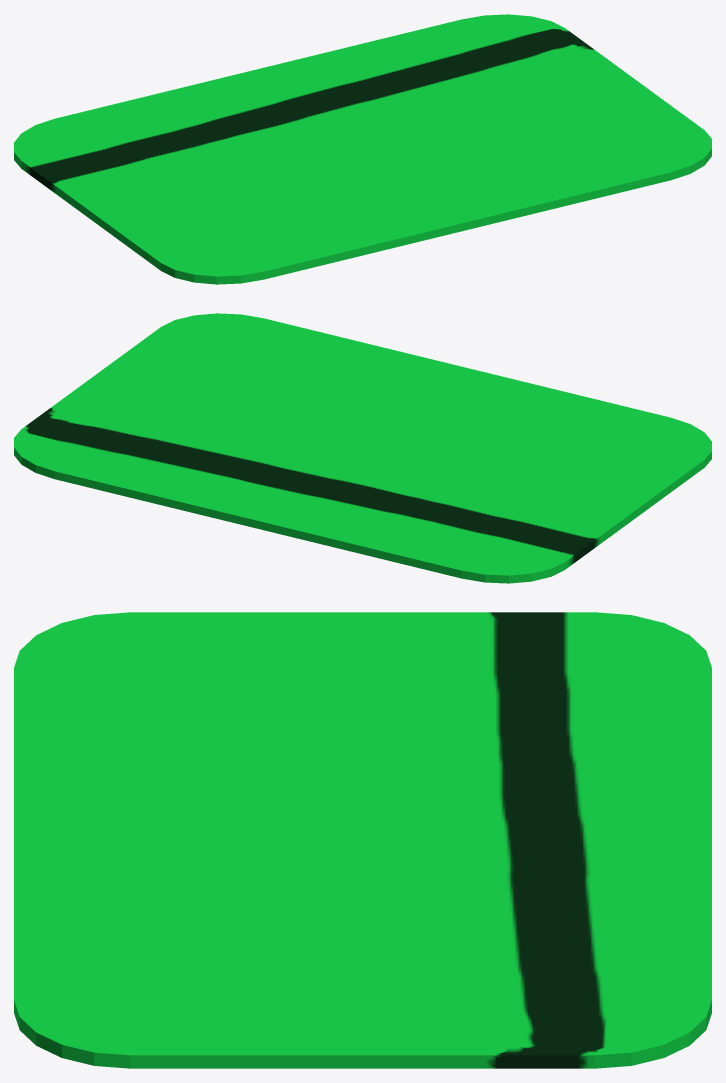
The model's file is ENV_keyCard_v001.fbx.
The picture shows the model from 3 angles, top to bottom: view 1: azimuth 30°, elevation 25°; view 2: azimuth 150°, elevation 25°; view 3: azimuth 270°, elevation 25°; orthographic projection. The views are drawn at different scales.
Visible parts, largest first — view 1: Cube; view 2: Cube; view 3: Cube.
Boxes of the visible parts, box(x1,y1,x2,y2) form: Cube: box(14, 14, 711, 284); Cube: box(14, 313, 711, 583); Cube: box(14, 612, 711, 1068).
Bounding box in the file's own units: 90.14 × 1.26 × 60.02.
Materials: 1 (1 with a texture image).
